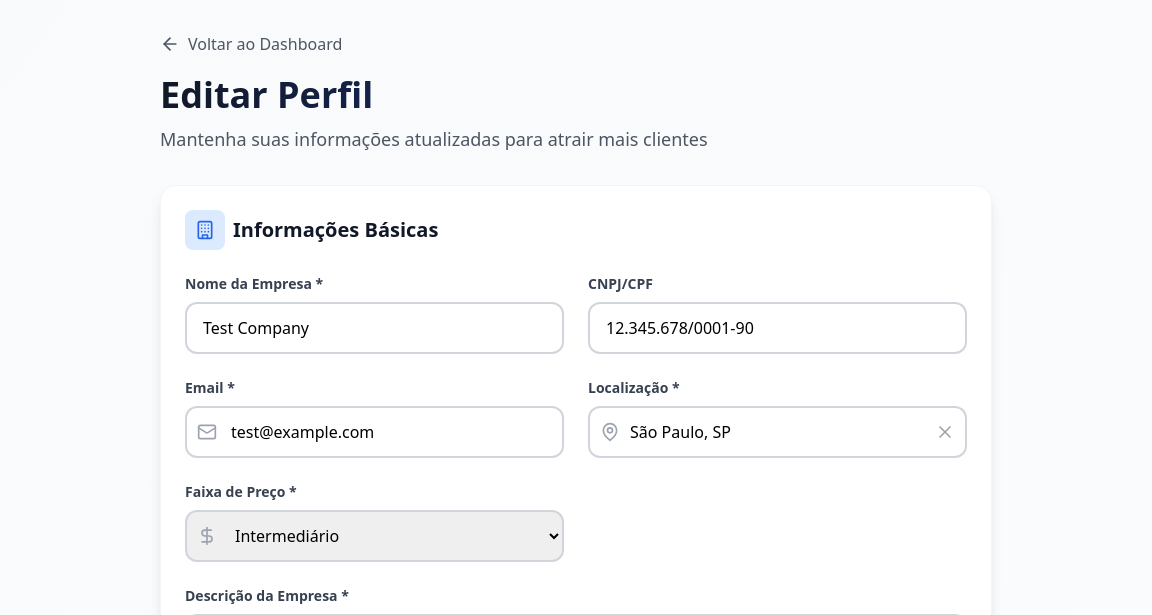
Test case: SupplierProfileEdit › should format CNPJ correctly
The width and height of the screenshot is (1152, 615).
Replace the text in the field with placeholder "000.000.000-00 ou 00.000.000/0000-00" below "CNPJ/CPF" with "12345678000190" at (778, 328), box [588, 302, 967, 354]
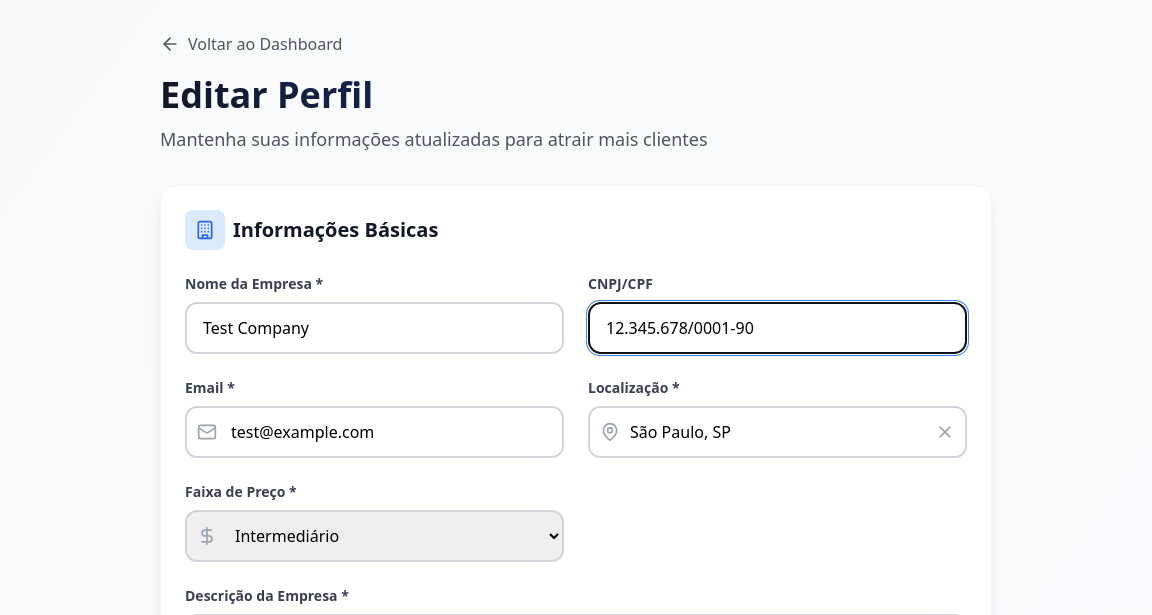
Expected: the field with placeholder "000.000.000-00 ou 00.000.000/0000-00" below "CNPJ/CPF" holds "12.345.678/0001-90", [588, 302, 967, 354]
